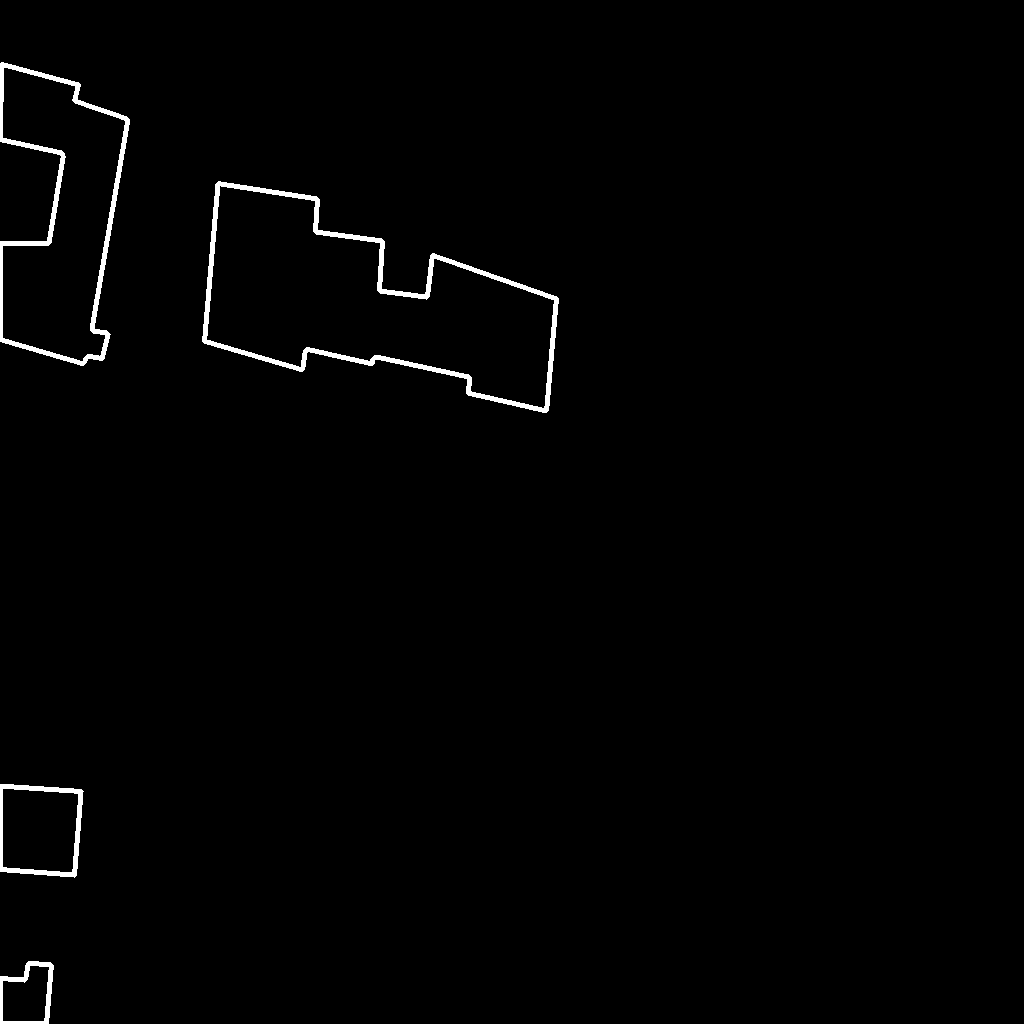building: (204, 183, 558, 412), (0, 64, 129, 365), (0, 786, 82, 876), (0, 963, 53, 1024)
